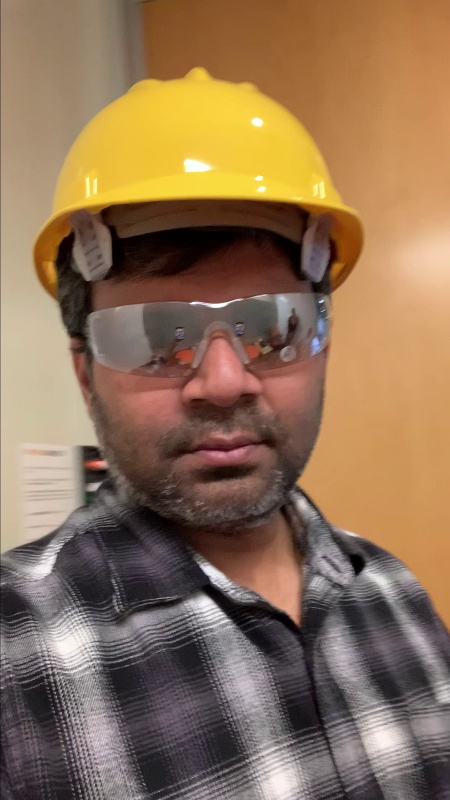glasses: (72, 294, 338, 387)
helmet: (23, 54, 370, 286)
